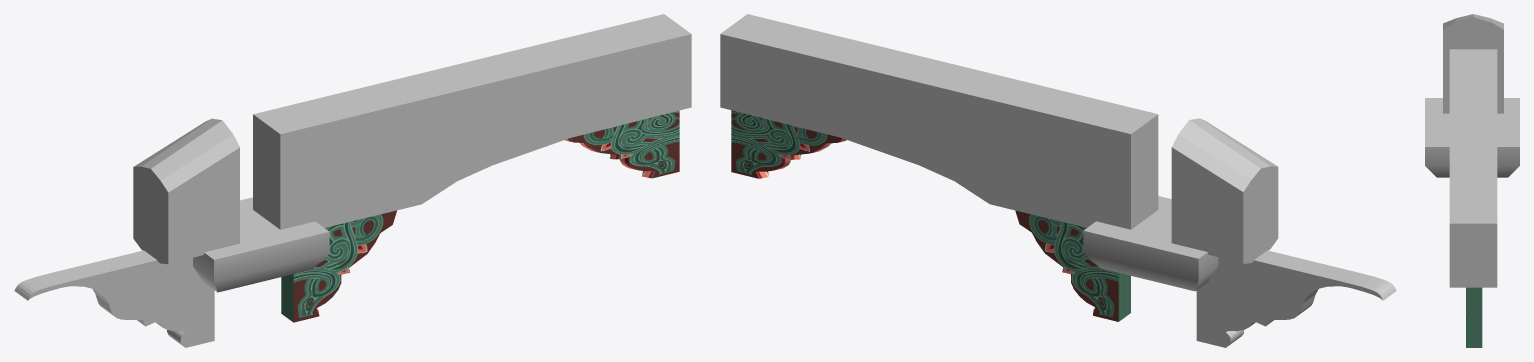
Rendered from SM_R_Beam_37.fbx.
The picture shows the model from 3 angles, left to right: view 1: azimuth 30°, elevation 25°; view 2: azimuth 150°, elevation 25°; view 3: azimuth 270°, elevation 25°; orthographic projection. The views are drawn at different scales.
Parts seen in each view (by area): view 1: SM_R_Beam_37_LOD0; view 2: SM_R_Beam_37_LOD0; view 3: SM_R_Beam_37_LOD0.
Part boxes in pixels (box(x1,y1,x2,y2)): SM_R_Beam_37_LOD0: box(14, 14, 691, 347); SM_R_Beam_37_LOD0: box(720, 14, 1396, 347); SM_R_Beam_37_LOD0: box(1425, 14, 1519, 347).
Size of the model in its own units: 259 by 37.18 by 80.45.
